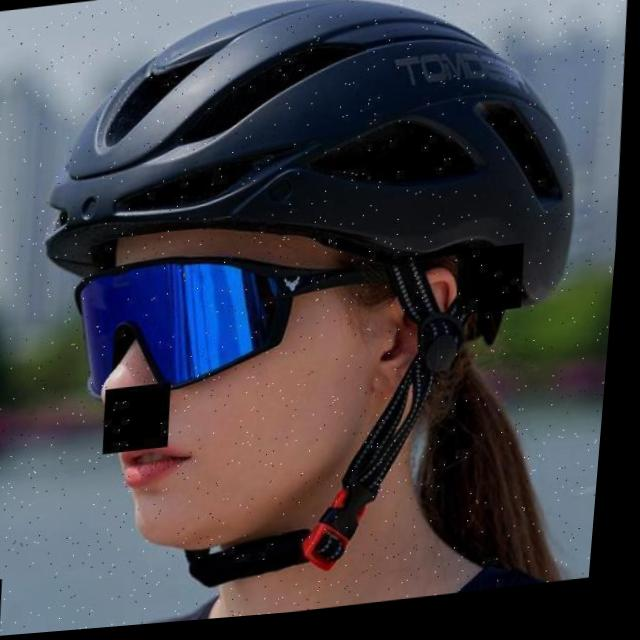helmet: (17, 0, 609, 614)
